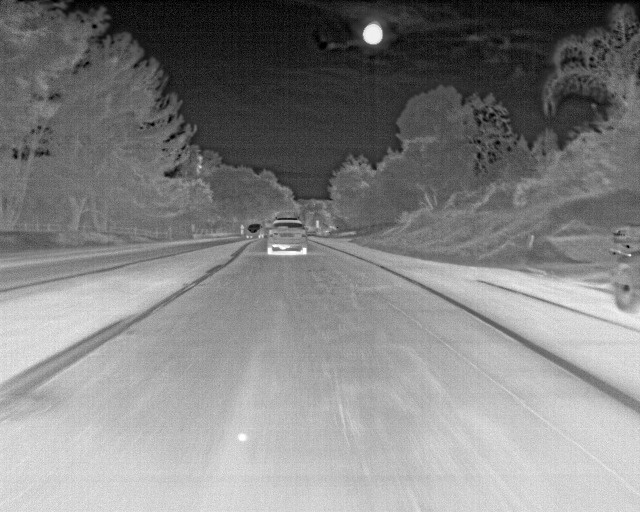vehicle: (266, 218, 310, 259)
